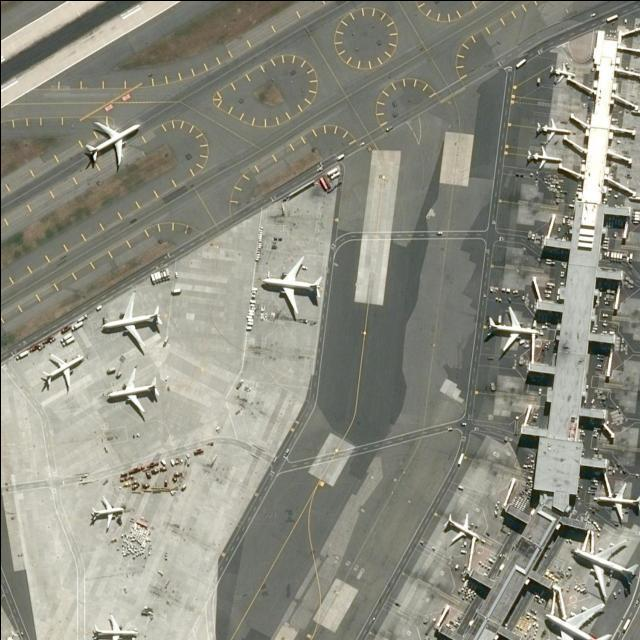Aircraft: (570, 542, 640, 600), (98, 294, 161, 354), (260, 257, 322, 317), (84, 117, 140, 171), (103, 367, 161, 419), (484, 306, 538, 356), (539, 604, 611, 640), (592, 480, 640, 524), (38, 350, 85, 394), (441, 513, 481, 547), (91, 496, 125, 532), (89, 616, 137, 640), (532, 119, 568, 144), (543, 62, 573, 87), (526, 153, 558, 176), (630, 186, 640, 217)
